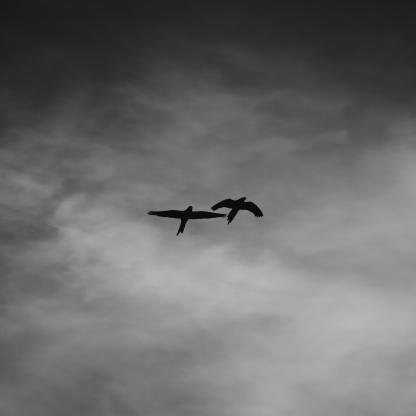bird: (147, 206, 228, 236), (210, 197, 263, 225)
